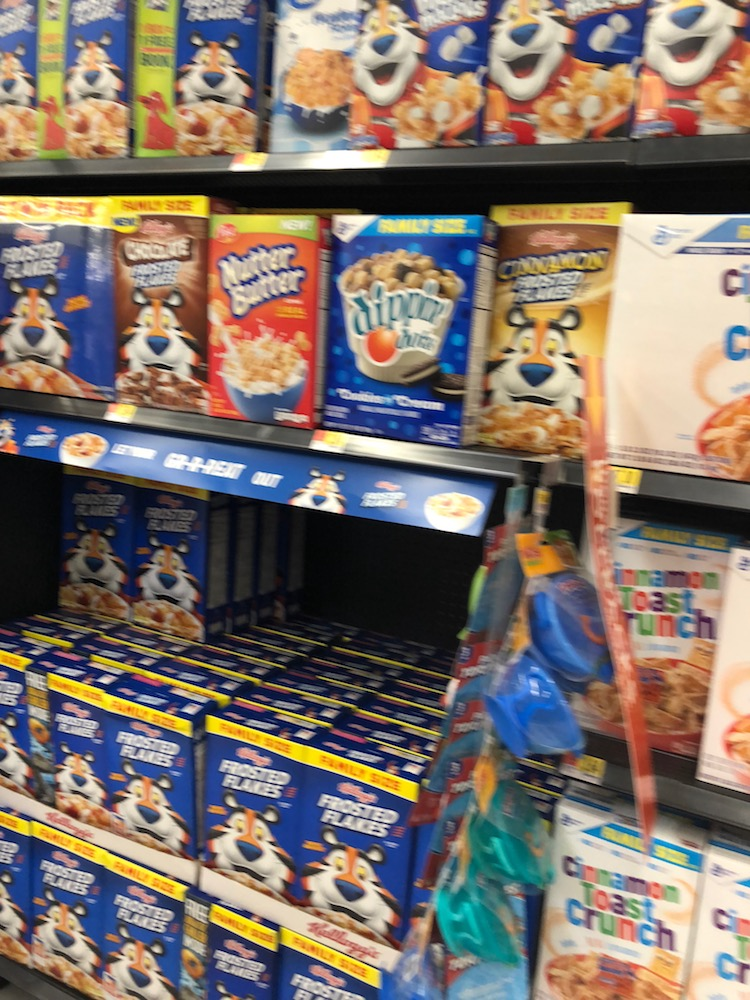Dippin Dots Cookies & Cream -568929378: (330, 219, 480, 441)
Nutter Butter-565717511: (209, 237, 332, 413)
